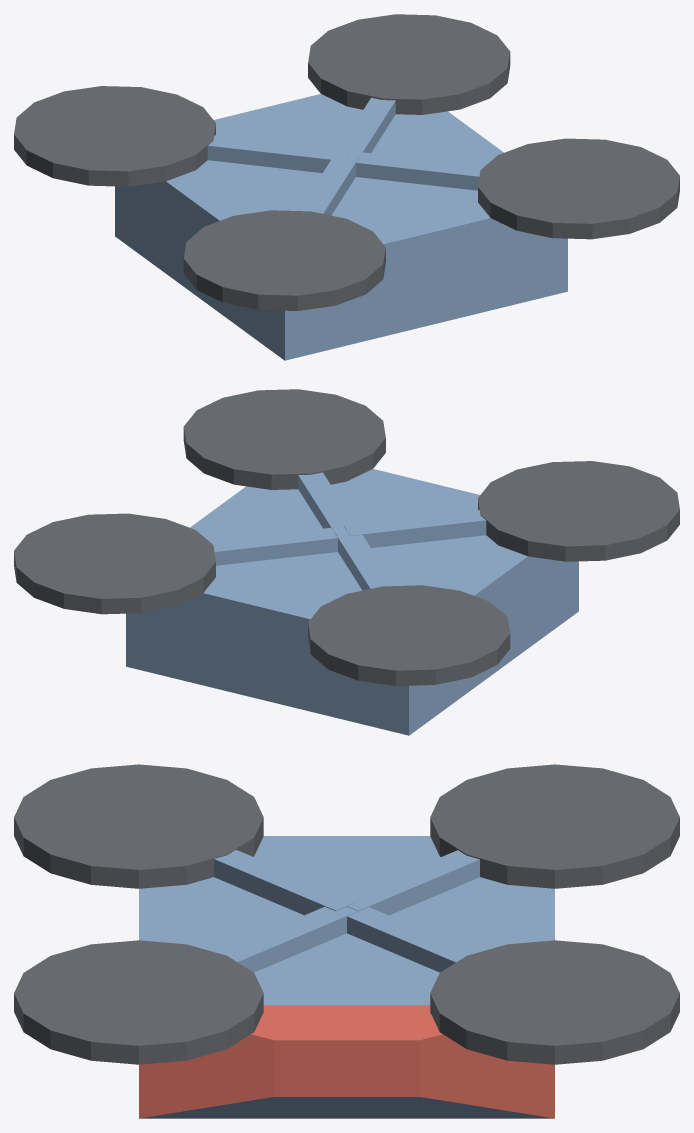
File: uav_quadrotor_lowpoly.glb
The picture shows the model from 3 angles, top to bottom: view 1: azimuth 30°, elevation 25°; view 2: azimuth 150°, elevation 25°; view 3: azimuth 270°, elevation 25°; orthographic projection. The views are drawn at different scales.
Visible parts, largest first — view 1: Body, RotorRR, RotorFR, RotorRL, RotorFL, ArmRL, ArmFR, ArmRR, ArmFL; view 2: Body, RotorRL, RotorFL, RotorRR, RotorFR, ArmRR, ArmFL, ArmFR, ArmRL; view 3: Body, RotorFL, RotorFR, RotorRL, RotorRR, ArmRR, ArmRL, ArmFR, ArmFL.
Boxes of the visible parts, box(x1,y1,x2,y2) form: Body: box(115, 94, 567, 360); RotorRR: box(183, 210, 385, 310); RotorFR: box(478, 138, 679, 239); RotorRL: box(14, 86, 215, 186); RotorFL: box(308, 14, 510, 114); ArmRL: box(207, 135, 349, 172); ArmFR: box(347, 151, 484, 190); ArmRR: box(299, 154, 359, 215); ArmFL: box(338, 97, 395, 153); Body: box(126, 469, 578, 735); RotorRL: box(308, 585, 510, 685); RotorFL: box(14, 513, 215, 614); RotorRR: box(478, 461, 679, 561); RotorFR: box(183, 389, 385, 489); ArmRR: box(343, 510, 486, 548); ArmFL: box(209, 527, 337, 565); ArmFR: box(298, 472, 355, 532); ArmRL: box(334, 531, 394, 590); Body: box(139, 836, 554, 1118); RotorFL: box(430, 940, 679, 1064); RotorFR: box(14, 940, 263, 1064); RotorRL: box(430, 764, 679, 888); RotorRR: box(14, 764, 263, 888); ArmRR: box(214, 850, 357, 915); ArmRL: box(347, 850, 479, 915); ArmFR: box(216, 907, 357, 972); ArmFL: box(347, 907, 476, 972).
Size of the model in its own units: 0.64 by 0.14 by 0.64.
